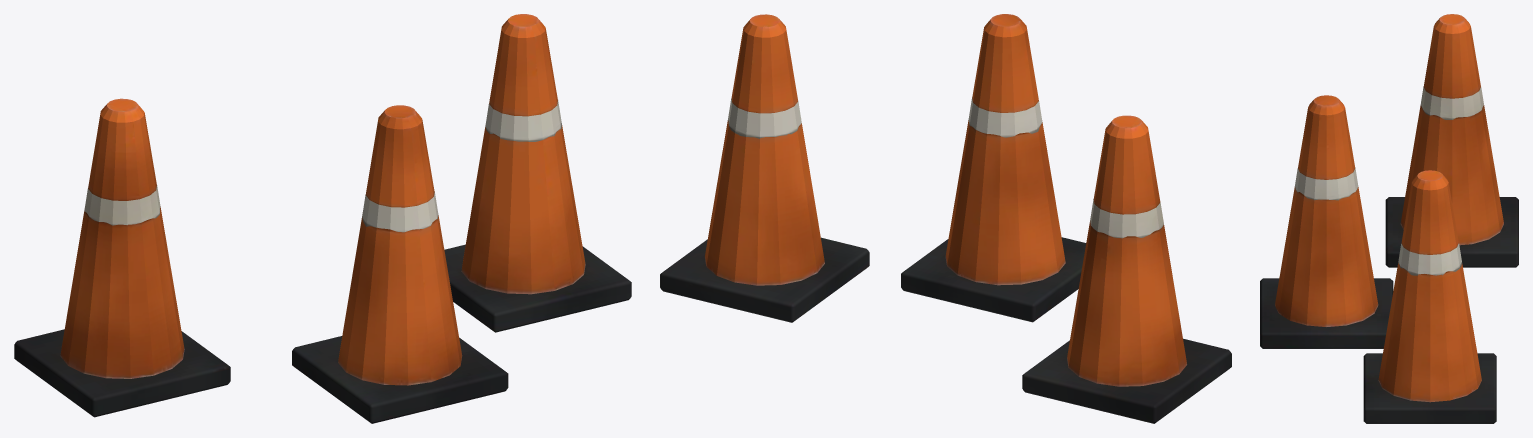
The model's file is traffic_cone_group.glb.
3 renders of one model, left to right at view 1: azimuth 30°, elevation 25°; view 2: azimuth 150°, elevation 25°; view 3: azimuth 270°, elevation 25°, orthographic. The views are drawn at different scales.
Parts seen in each view (by area): view 1: TrafficConeGroup; view 2: TrafficConeGroup; view 3: TrafficConeGroup.
Part boxes in pixels (bbox=[...]): TrafficConeGroup: bbox=[14, 14, 631, 423]; TrafficConeGroup: bbox=[660, 14, 1231, 423]; TrafficConeGroup: bbox=[1260, 14, 1518, 423].
Bounding box in the file's own units: 1.36 × 0.66 × 0.7.
Materials: 1 (1 with a texture image).
